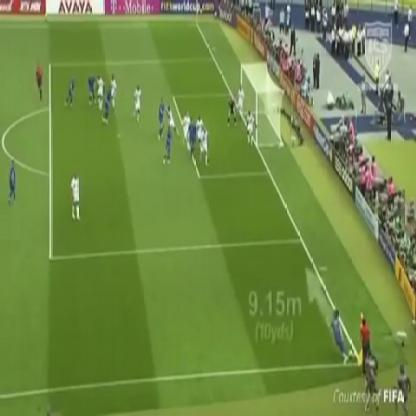corner kick: (311, 283, 383, 395)
